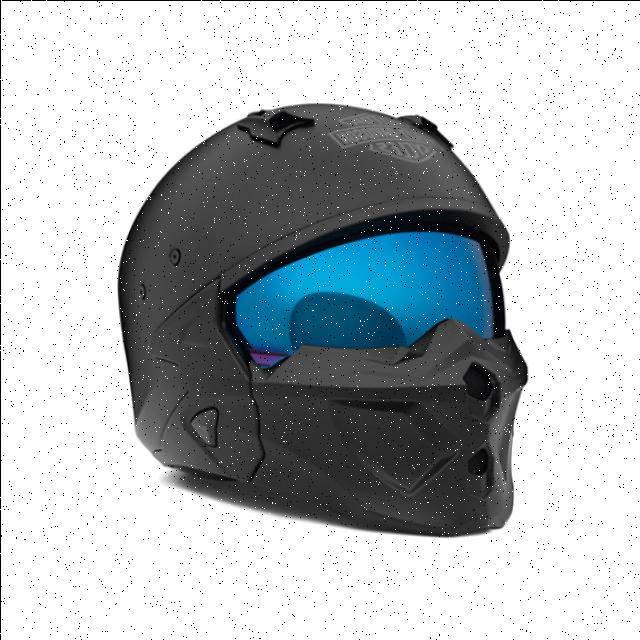Helmet: (118, 104, 526, 534)
